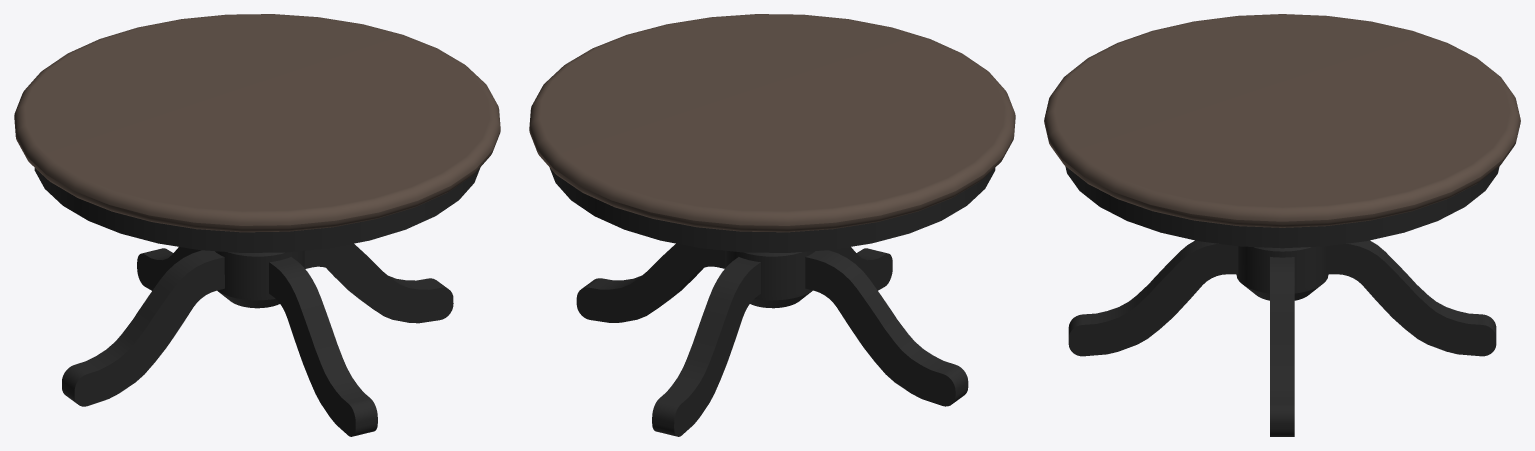
File: TableRonde_27.fbx
The picture shows the model from 3 angles, left to right: view 1: azimuth 30°, elevation 25°; view 2: azimuth 150°, elevation 25°; view 3: azimuth 270°, elevation 25°; orthographic projection. The views are drawn at different scales.
Parts seen in each view (by area): view 1: pCylinder13, pCube17, pCube18, pCube19, pCube16; view 2: pCylinder13, pCube17, pCube16, pCube19, pCube18; view 3: pCylinder13, pCube16, pCube18, pCube19.
Boxes of the visible parts, x1,y1,x2,y2 form: pCylinder13: (14,14,500,308); pCube17: (62,250,224,406); pCube18: (269,257,377,436); pCube19: (304,243,453,323); pCube16: (137,247,200,290); pCylinder13: (529,14,1015,308); pCube17: (805,250,968,406); pCube16: (652,257,760,436); pCube19: (576,243,725,322); pCube18: (829,247,892,290); pCylinder13: (1044,14,1520,300); pCube16: (1326,240,1496,356); pCube18: (1068,240,1238,356); pCube19: (1270,257,1294,436).
Size of the model in its own units: 50.5 by 28.04 by 50.5.
